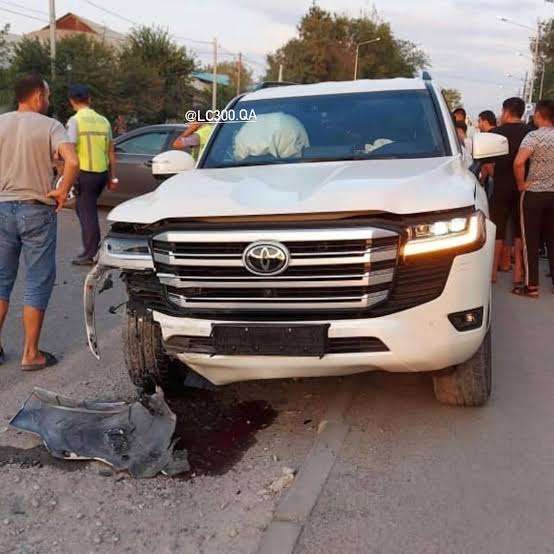bonnet-dent: (111, 152, 478, 226)
